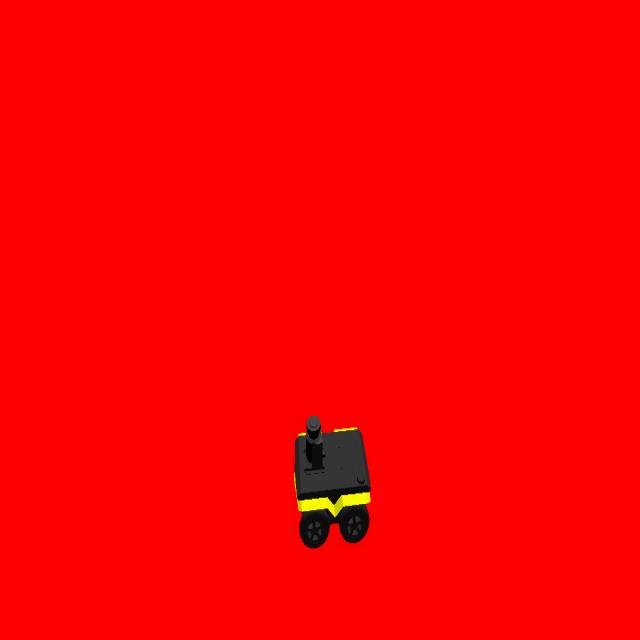jackal: (292, 416, 371, 548)
